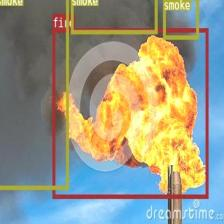fire: (52, 28, 208, 198)
smoke: (0, 0, 68, 188), (70, 0, 157, 33), (163, 0, 198, 38)
